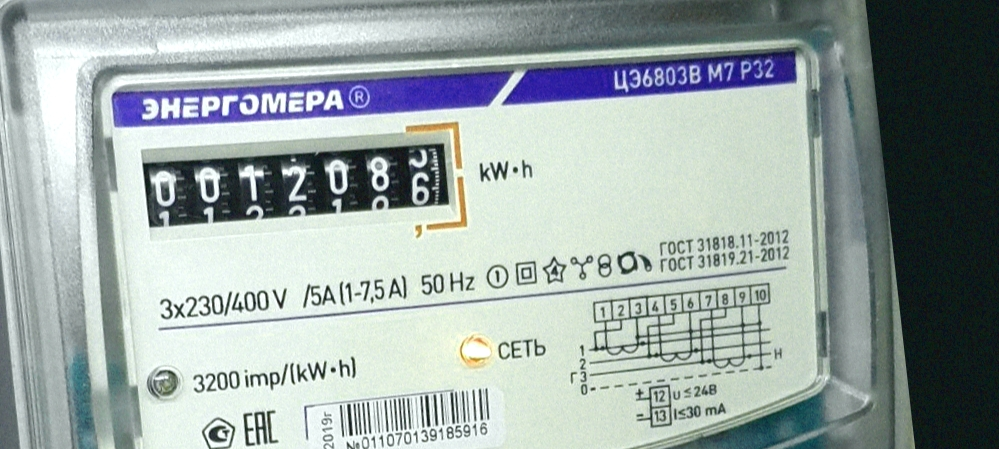0: (194, 161, 226, 206), (151, 164, 179, 209), (325, 155, 352, 196)
1: (239, 160, 265, 203)
2: (282, 162, 311, 203)
6: (406, 168, 433, 207)
8: (366, 152, 393, 194)
screen: (130, 99, 482, 275)
